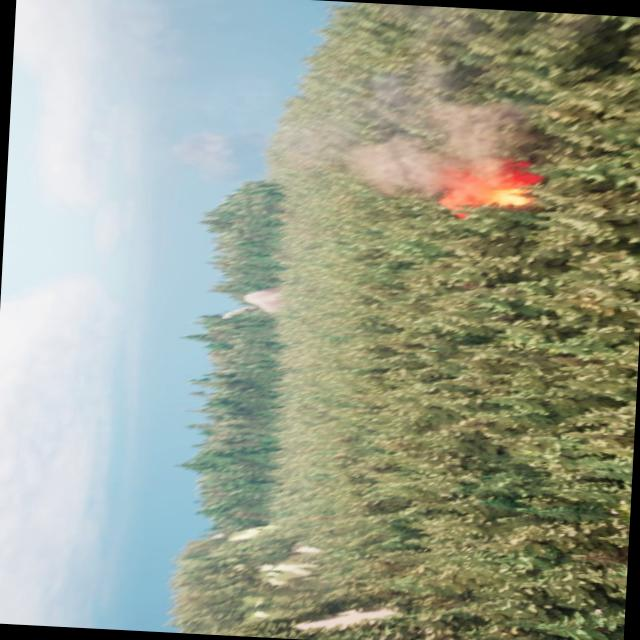fire: (441, 160, 540, 220)
smoke: (329, 74, 525, 214)
